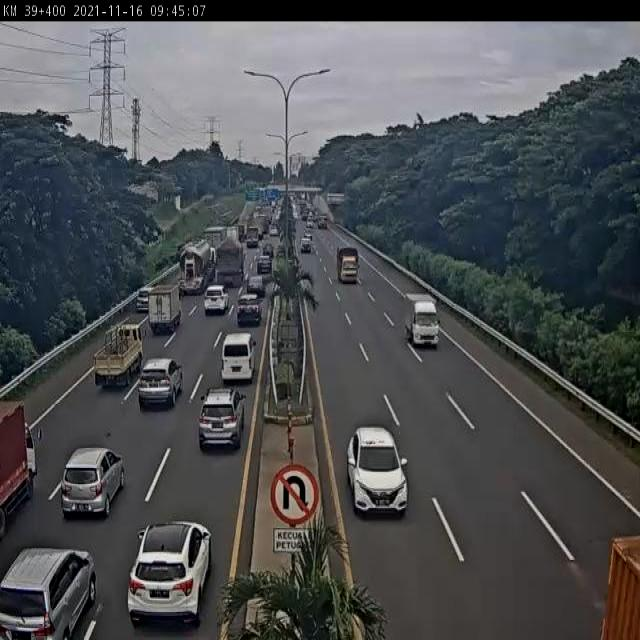Car: (128, 520, 212, 628), (0, 546, 97, 638), (348, 426, 410, 516), (0, 397, 41, 532), (60, 446, 124, 518), (197, 386, 247, 449), (137, 356, 183, 409), (236, 293, 263, 326), (203, 284, 230, 316), (246, 275, 266, 298), (136, 287, 150, 313), (256, 252, 272, 274), (300, 236, 312, 253), (246, 233, 259, 248), (262, 242, 274, 258), (276, 244, 286, 259), (318, 216, 328, 228), (269, 226, 278, 237)
Truck: (94, 324, 144, 385), (216, 238, 246, 297), (405, 296, 439, 348), (149, 286, 181, 332), (336, 246, 361, 285)
Van: (219, 332, 256, 384)
